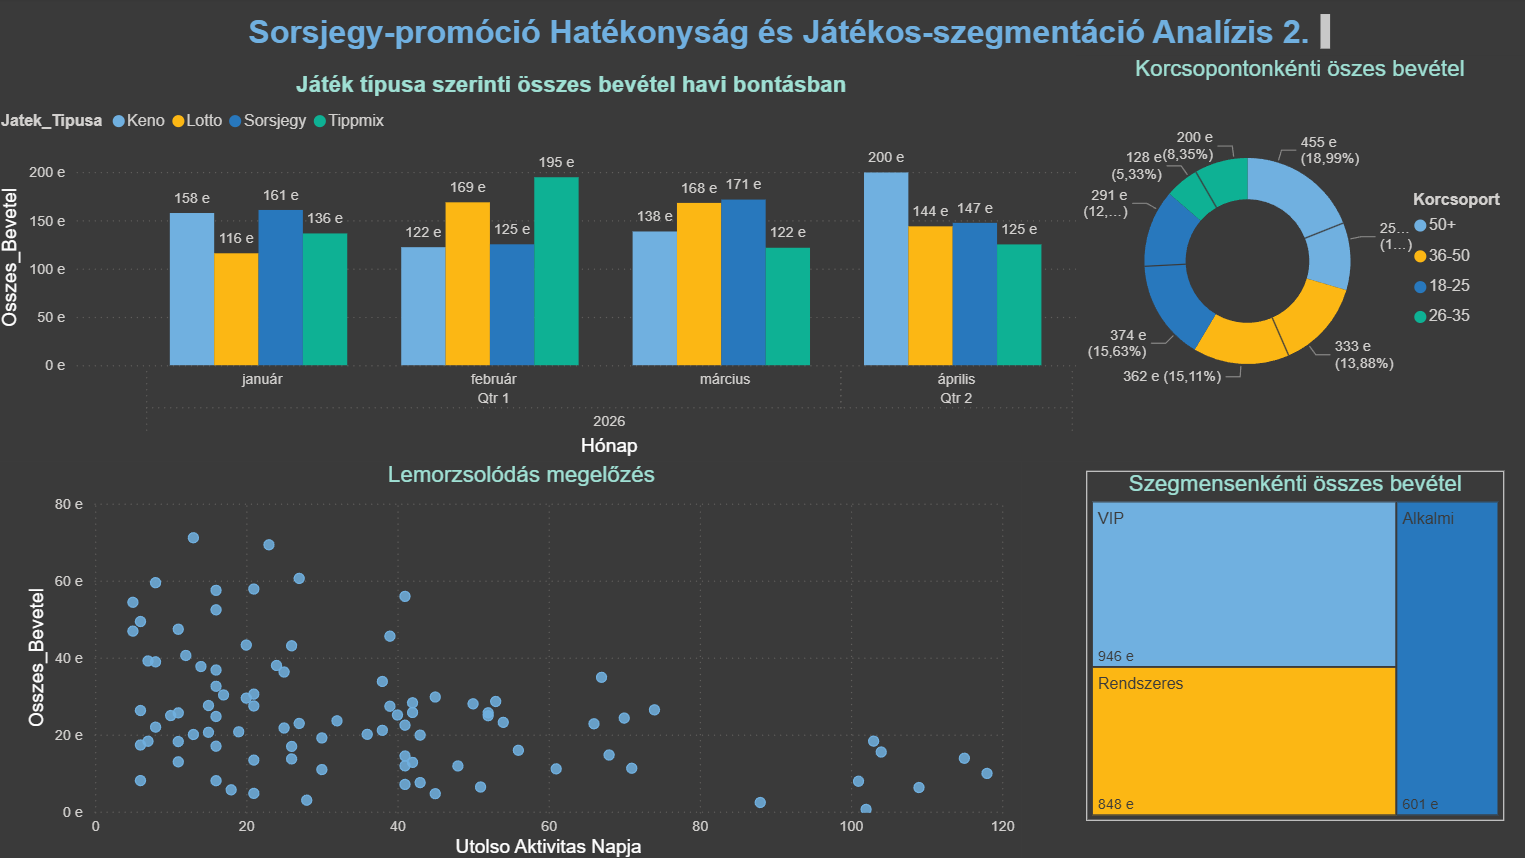

The page's visual inventory and layout, read from the dashboard file:
{"tool":"powerbi","page":{"name":"Analysis2","canvas":[1280,720],"ordinal":1},"visuals":[{"type":"clusteredColumnChart","title":"Játék típusa szerinti összes bevétel havi bontásban","fields":{"Category":["Fact_Tranzakciok.Datum.Változat.Dátumhierarchia.Év","Fact_Tranzakciok.Datum.Változat.Dátumhierarchia.Negyedév","Fact_Tranzakciok.Datum.Változat.Dátumhierarchia.Hónap"],"Y":["Fact_Tranzakciok.Osszes_Bevetel"],"Series":["Fact_Tranzakciok.Jatek_Tipusa"]},"box":[0,62.8,958.6,324.3],"z":0},{"type":"treemap","title":"Szegmensenkénti összes bevétel","fields":{"Group":["Fact_Tranzakciok.Dim_Jatekosok.Szegmens"],"Values":["Fact_Tranzakciok.Osszes_Bevetel"]},"box":[907.6,393.6,347.9,291.6],"z":1000},{"type":"scatterChart","title":"Lemorzsolódás megelőzés","fields":{"X":["Dim_Jatekosok.Utolso Aktivitas Napja"],"Y":["Fact_Tranzakciok.Osszes_Bevetel"],"Category":["Fact_Promociok.Jatekos_ID"]},"box":[22.2,387.1,831.7,333.5],"z":2000},{"type":"donutChart","title":"Korcsopontonkénti öszes bevétel","fields":{"Category":["Dim_Jatekosok.Korcsoport"],"Y":["Fact_Tranzakciok.Osszes_Bevetel"],"Series":["Fact_Promociok.Promocios_kod_felhasznalva"]},"box":[898.8,48.8,372.1,320.9],"z":3000},{"type":"textbox","box":[196.4,9.4,918.7,39.5],"z":5000}]}

Visuals, with their boxes in screenshot pixels (x1, y1, x2, y2), scaled from the page's 1280x720 canvas onto the 1525x858 screenshot:
"Játék típusa szerinti összes bevétel havi bontásban" clusteredColumnChart: locate(0, 75, 1142, 461)
"Szegmensenkénti összes bevétel" treemap: locate(1081, 469, 1496, 817)
"Lemorzsolódás megelőzés" scatterChart: locate(26, 461, 1017, 857)
"Korcsopontonkénti öszes bevétel" donutChart: locate(1071, 58, 1514, 441)
textbox: locate(234, 11, 1329, 58)
